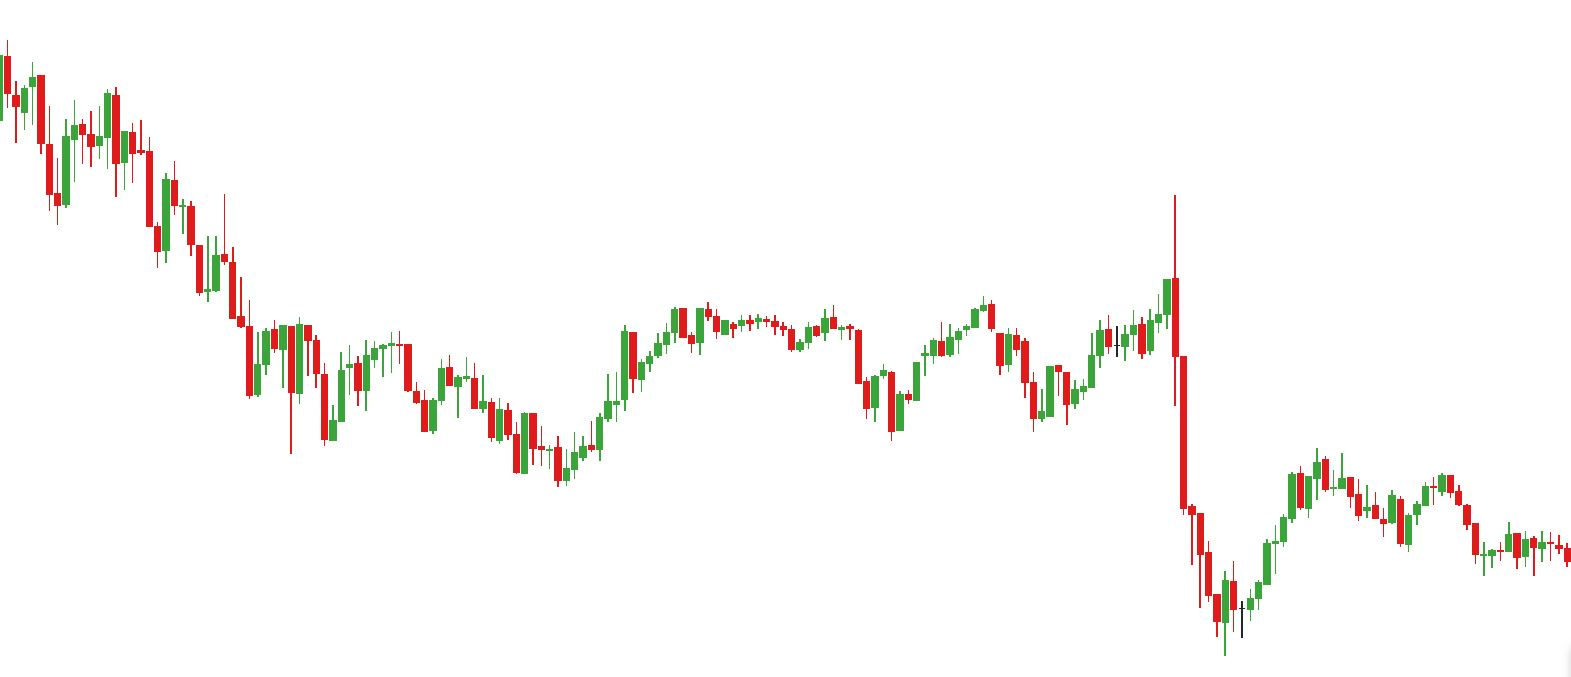buy: (510, 426, 570, 494)
